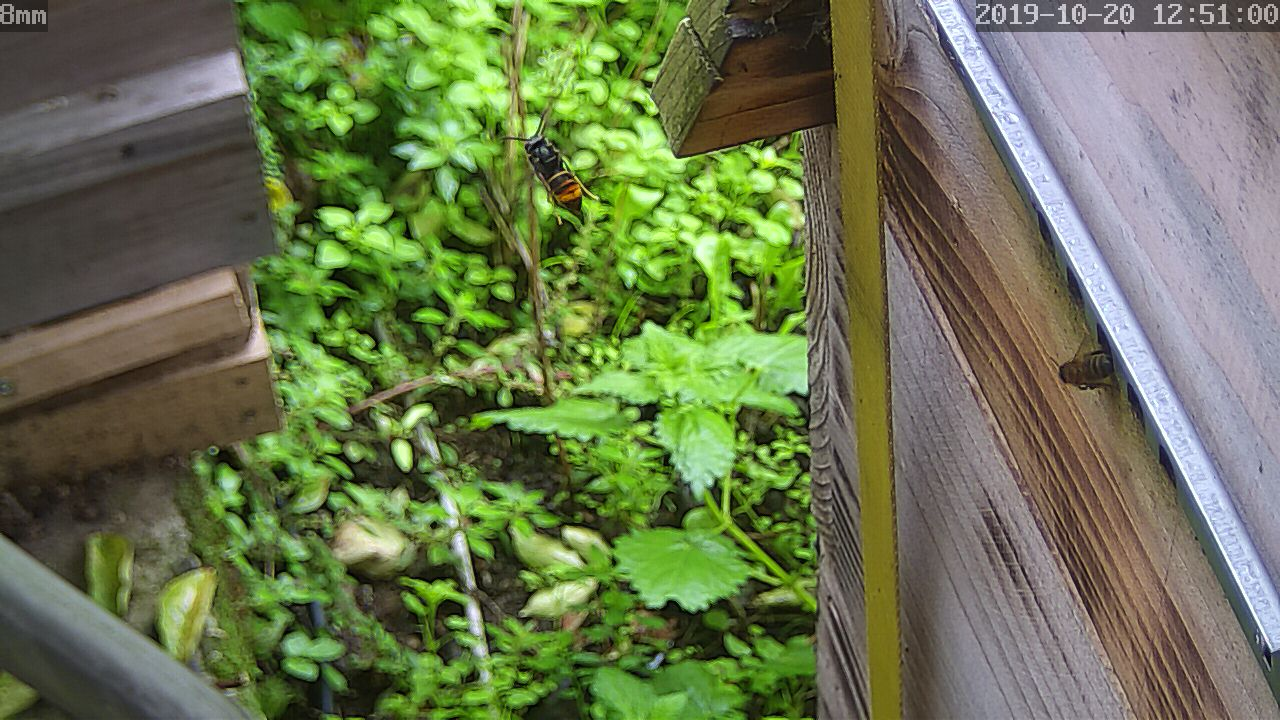bee: (1050, 338, 1117, 396)
hornet: (511, 126, 591, 225)
